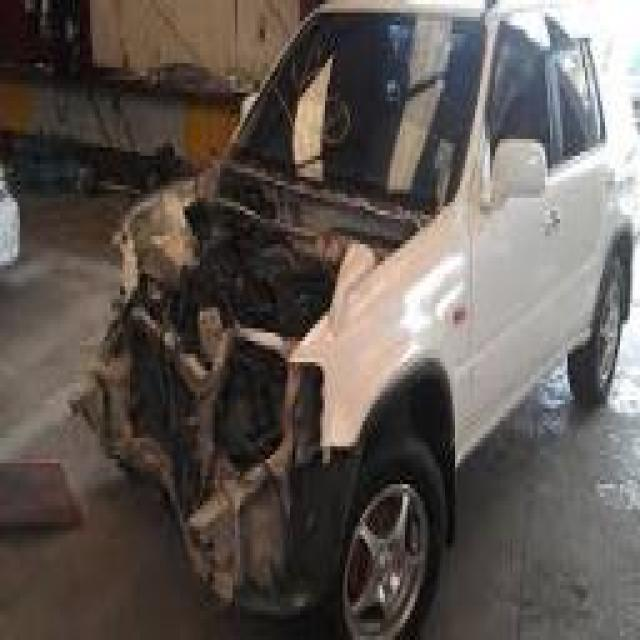Bonnet: (118, 151, 437, 349)
Bumper: (59, 297, 357, 613)
Light: (218, 337, 322, 446)
